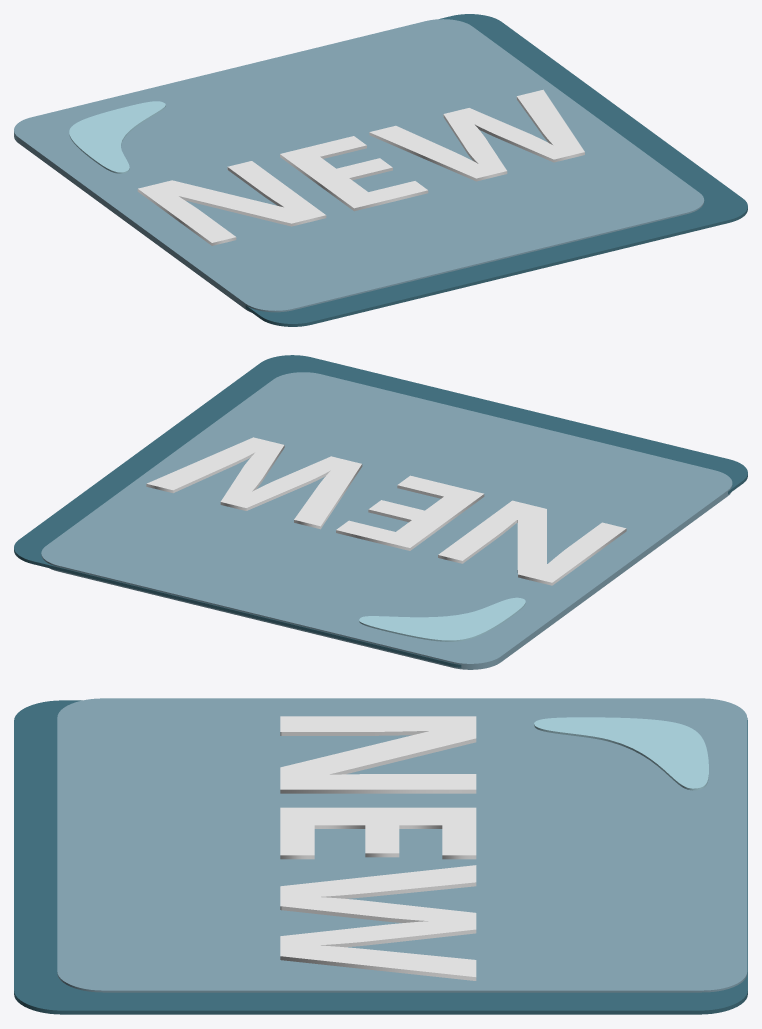
The model's file is emoji_u1f195.glb.
3 renders of one model, top to bottom at view 1: azimuth 30°, elevation 25°; view 2: azimuth 150°, elevation 25°; view 3: azimuth 270°, elevation 25°, orthographic. The views are drawn at different scales.
Visible parts, largest first — view 1: emoji_u1f195; view 2: emoji_u1f195; view 3: emoji_u1f195.
Boxes of the visible parts, left/top/right/bottom form: emoji_u1f195: left=14, top=14, right=747, bottom=326; emoji_u1f195: left=14, top=355, right=747, bottom=669; emoji_u1f195: left=14, top=698, right=747, bottom=1014.
Size of the model in its own units: 0.0339 by 0.0008 by 0.0339.
